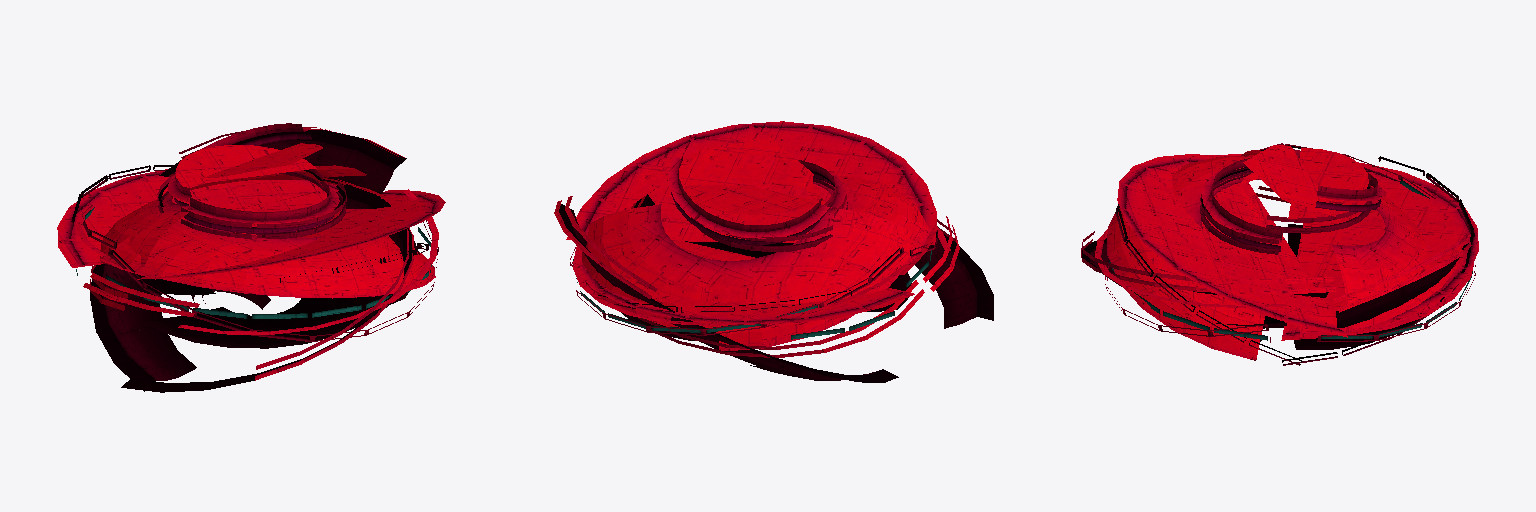
The picture shows the model from 3 angles: view 1: azimuth 30°, elevation 25°; view 2: azimuth 150°, elevation 25°; view 3: azimuth 270°, elevation 25°; orthographic projection.
Parts seen in each view (by area): view 1: Sphere001; view 2: Sphere001; view 3: Sphere001.
Part boxes in pixels (left/top/right/bottom): Sphere001: left=57, top=123, right=445, bottom=392; Sphere001: left=554, top=121, right=993, bottom=382; Sphere001: left=1081, top=143, right=1478, bottom=365.
Size of the model in its own units: 221 by 119 by 211.
1 materials, 1 textured.